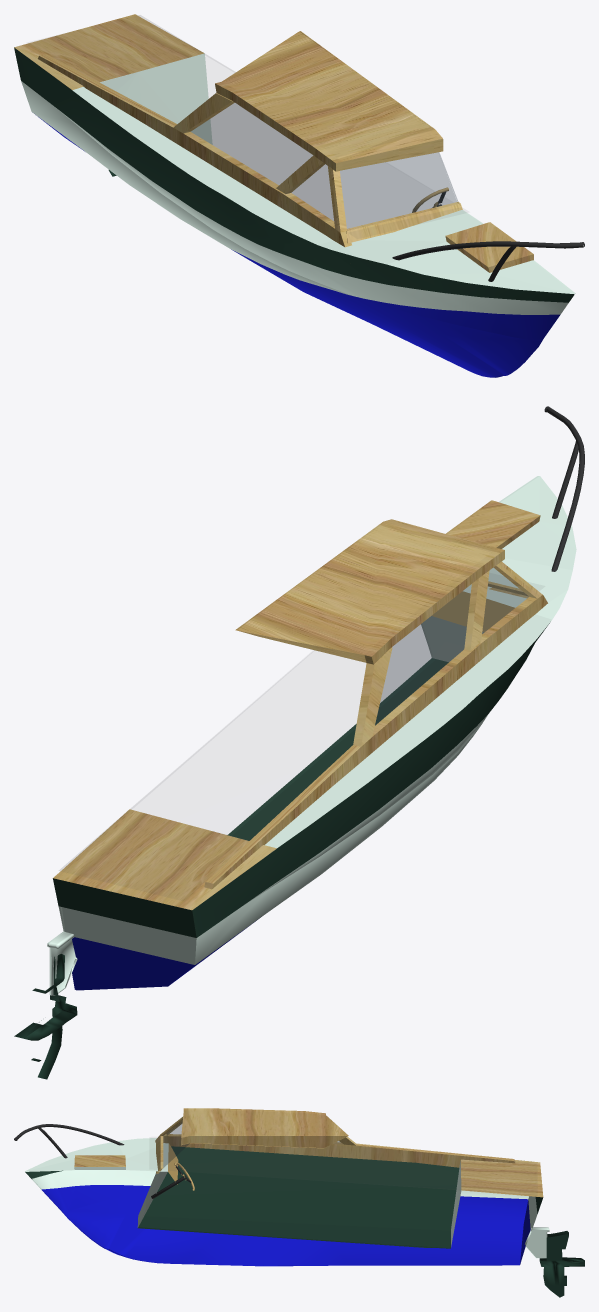
Rendered from right.obj.
The picture shows the model from 3 angles, top to bottom: view 1: azimuth 30°, elevation 25°; view 2: azimuth 150°, elevation 25°; view 3: azimuth 270°, elevation 25°; orthographic projection. The views are drawn at different scales.
Visible parts, largest first — view 1: BowRail_Mesh_Metal.001; view 2: BowRail_Mesh_Metal.001; view 3: BowRail_Mesh_Metal.001.
Part boxes in pixels (x1,y1,x2,y2): BowRail_Mesh_Metal.001: (14, 14, 584, 377); BowRail_Mesh_Metal.001: (14, 406, 584, 1079); BowRail_Mesh_Metal.001: (14, 1108, 584, 1297).
Size of the model in its own units: 1.03 by 1.79 by 5.72.
9 materials, 3 textured.
